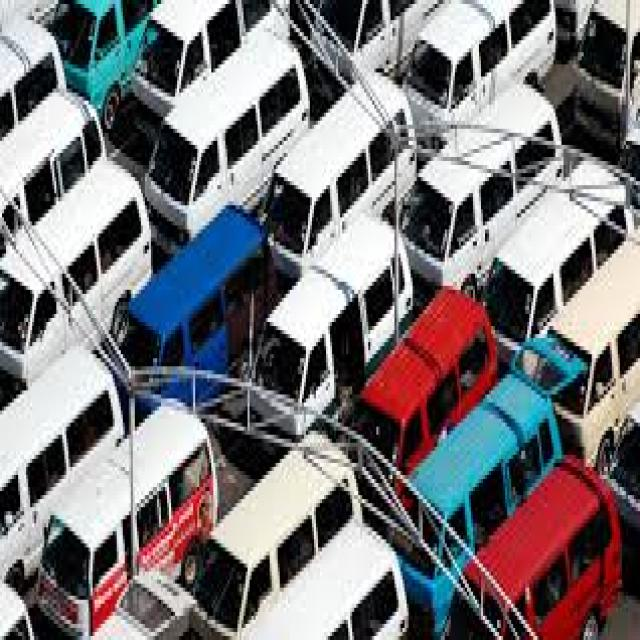MiniBus taxi: (397, 322, 580, 627), (40, 384, 224, 626), (249, 212, 418, 431), (146, 27, 312, 245), (483, 143, 633, 336)
